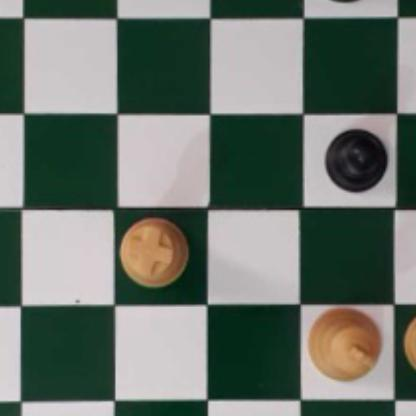black-king: (307, 0, 385, 3)
black-pawn: (324, 123, 387, 194)
white-bishop: (403, 307, 416, 380)
white-king: (303, 303, 383, 383)
white-rook: (119, 216, 190, 289)
